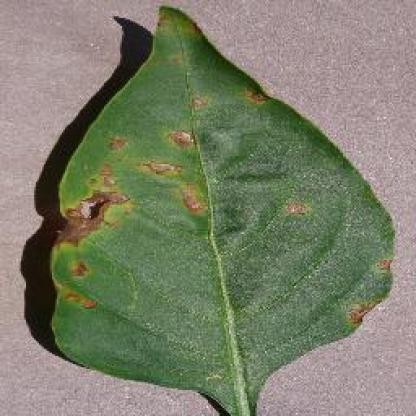bad leaf: (51, 142, 126, 316), (112, 111, 210, 218), (225, 76, 280, 120), (162, 19, 221, 60), (333, 277, 377, 320), (277, 194, 319, 230)
